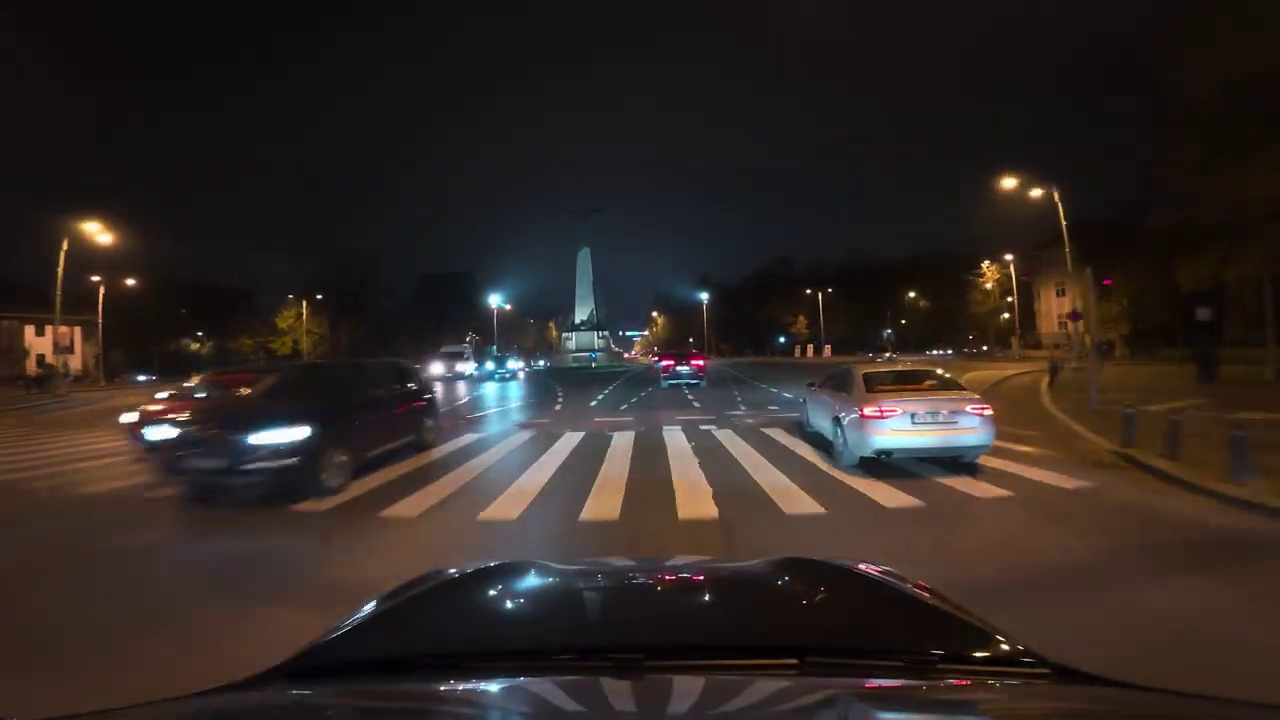acesa: (77, 218, 116, 250), (995, 170, 1030, 198)
